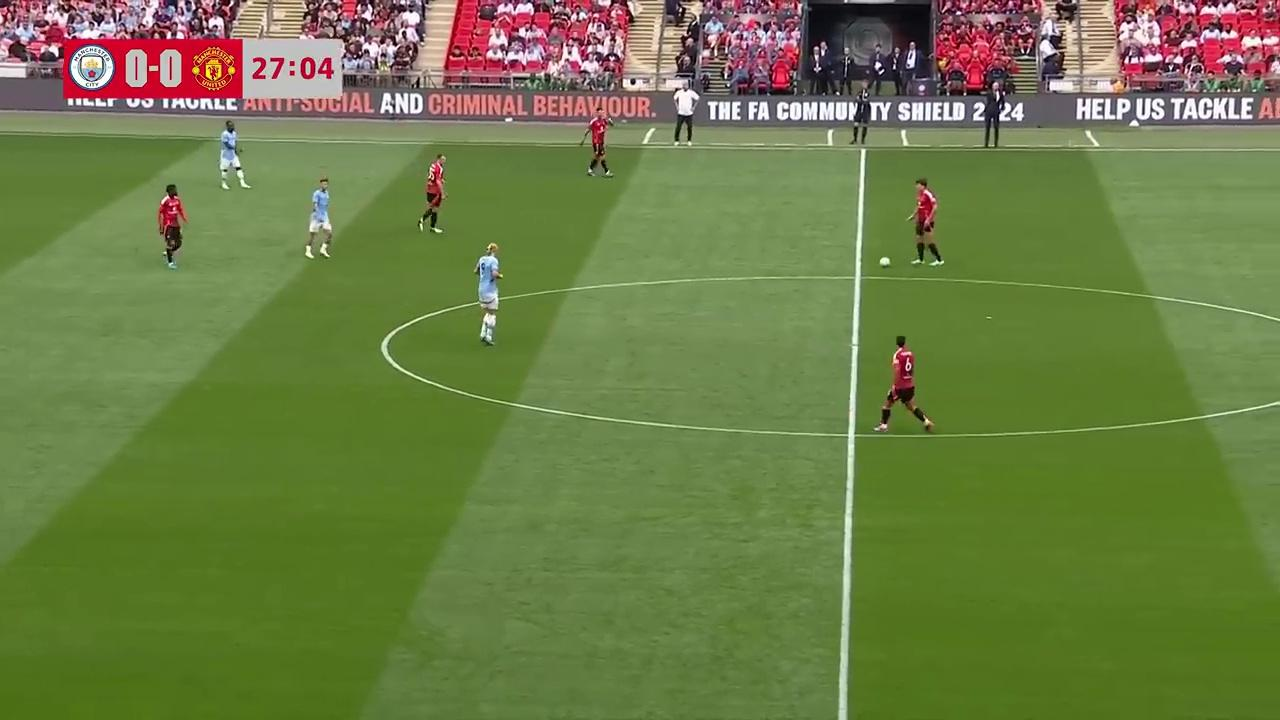ball: (877, 252, 891, 269)
player: (874, 335, 934, 433), (906, 179, 944, 266), (473, 243, 503, 344), (157, 183, 188, 269), (304, 176, 333, 259), (417, 154, 446, 234), (218, 120, 249, 189), (584, 115, 612, 177)
